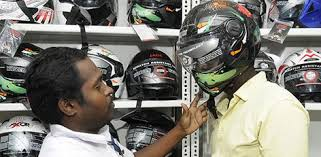helmet: (177, 4, 270, 85)
